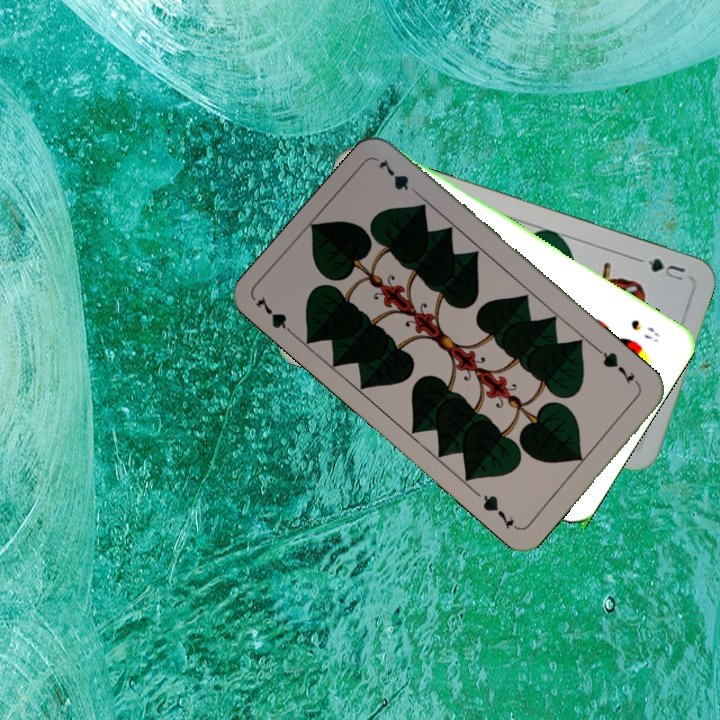G7: (251, 292, 300, 341), (595, 346, 638, 387)
GU: (644, 254, 688, 284)
S8: (627, 315, 662, 345)
